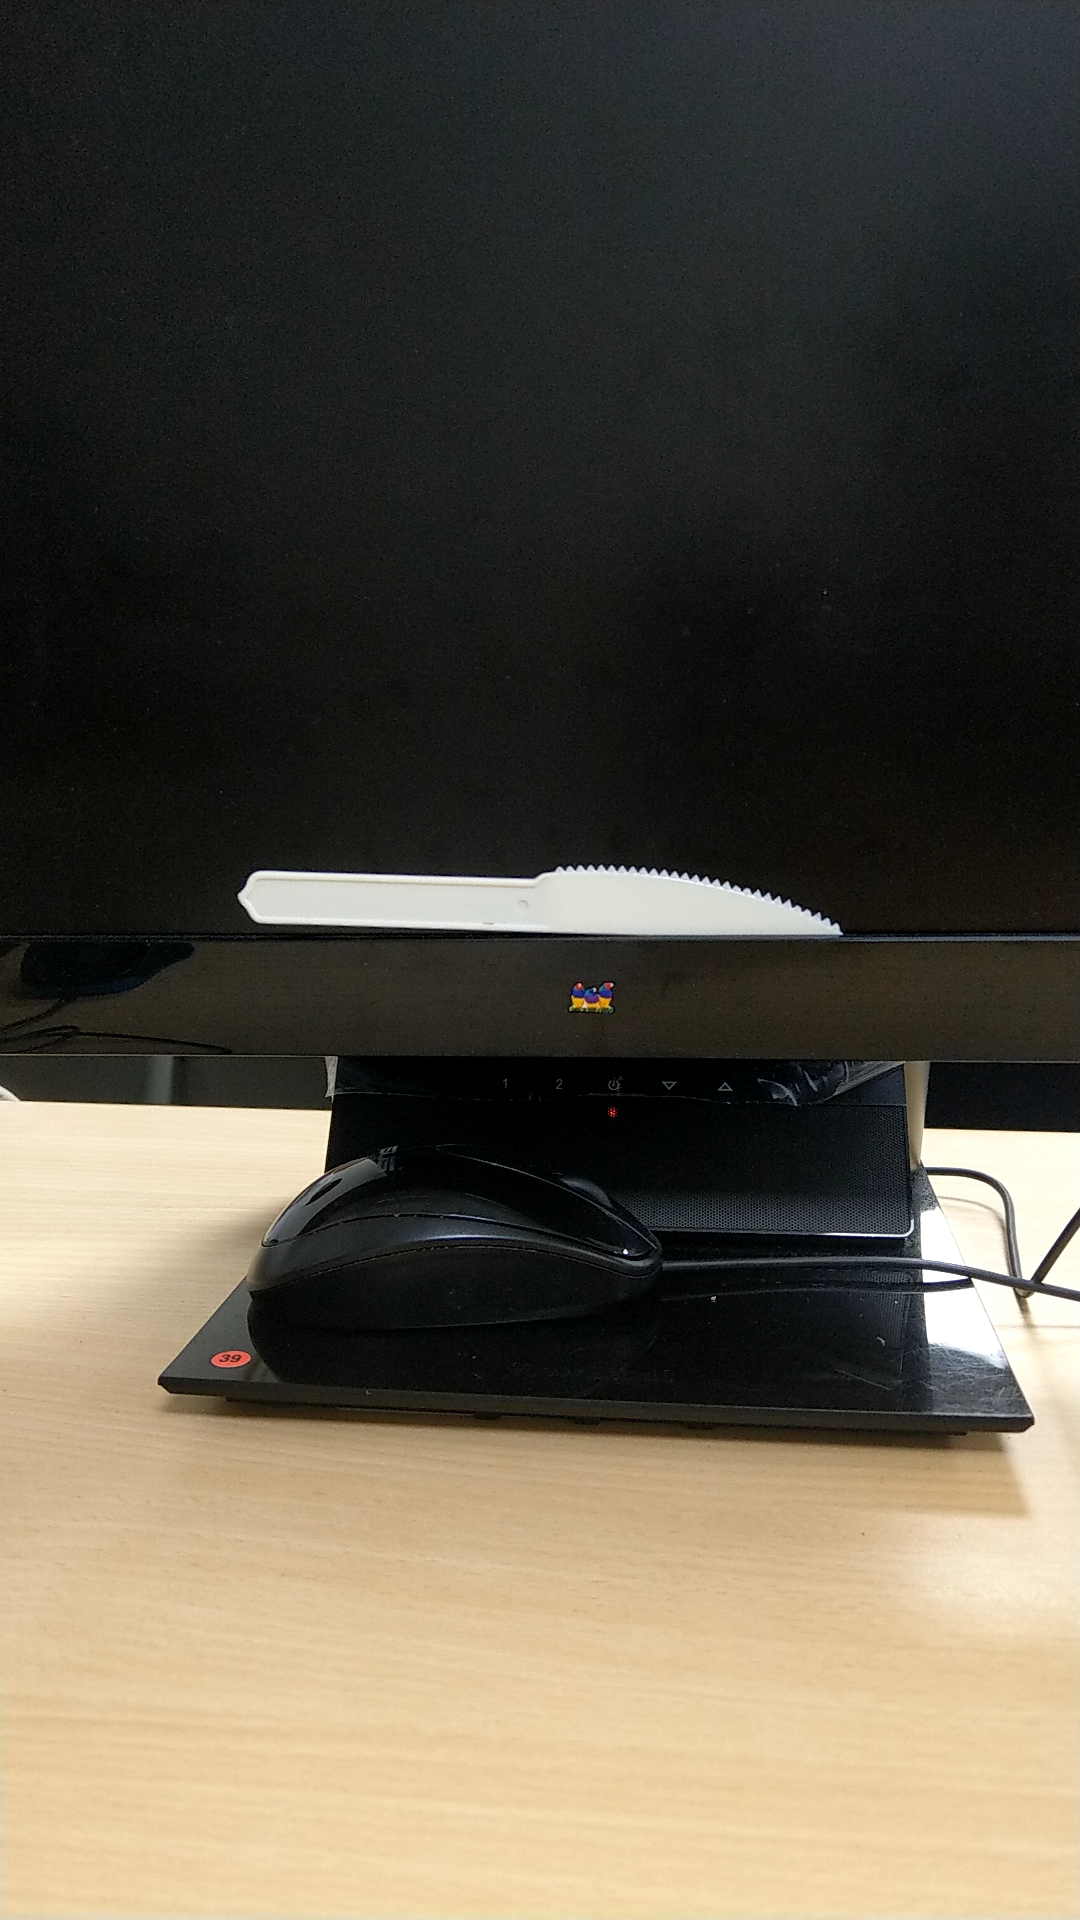knife: (220, 829, 858, 957)
